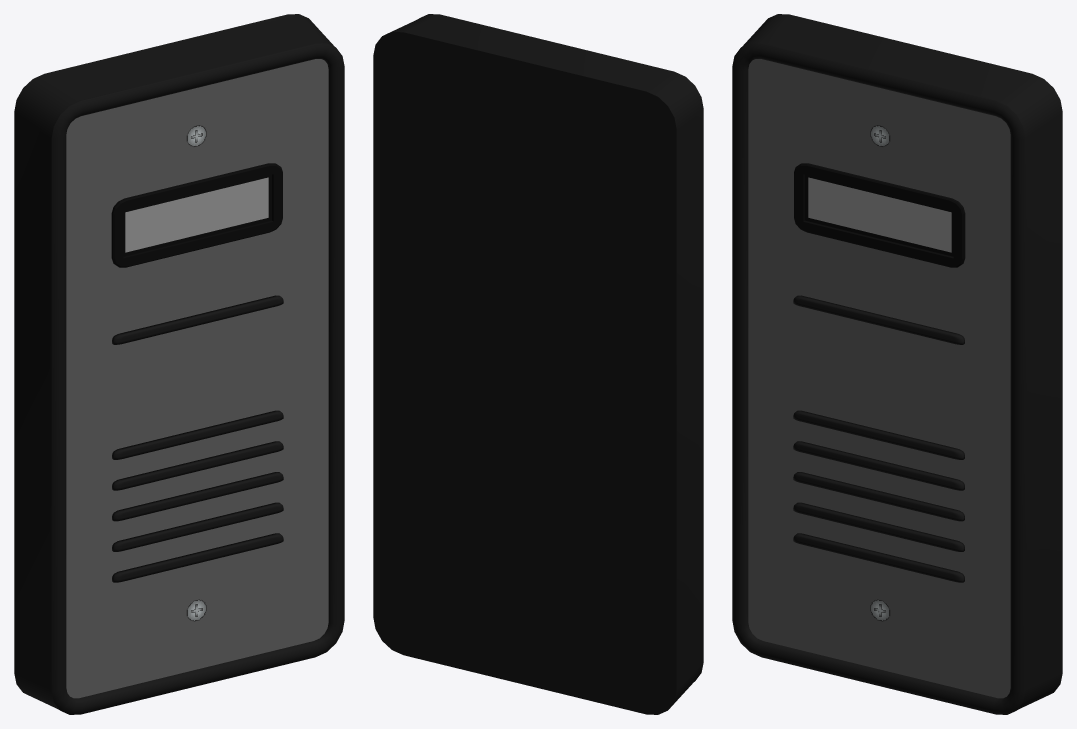
The model's file is entry-bell-speech-unit.obj.
The picture shows the model from 3 angles, left to right: view 1: azimuth 30°, elevation 25°; view 2: azimuth 150°, elevation 25°; view 3: azimuth 330°, elevation 25°; orthographic projection.
Parts seen in each view (by area): view 1: Circle, Cube.001, Plane_Plane.001, screws_Plane.004; view 2: Circle; view 3: Circle, Cube.001, Plane_Plane.001, screws_Plane.004.
Boxes of the visible parts, <box> form: Circle: <box>14,14,344,714</box>; Cube.001: <box>112,295,283,582</box>; Plane_Plane.001: <box>111,163,282,267</box>; screws_Plane.004: <box>186,125,206,621</box>; Circle: <box>373,14,703,714</box>; Circle: <box>732,14,1062,714</box>; Cube.001: <box>793,295,964,582</box>; Plane_Plane.001: <box>794,163,965,267</box>; screws_Plane.004: <box>870,125,890,621</box>.
Size of the model in its own units: 10.36 by 20.3 by 2.03.
Materials: 7 (1 with a texture image).
